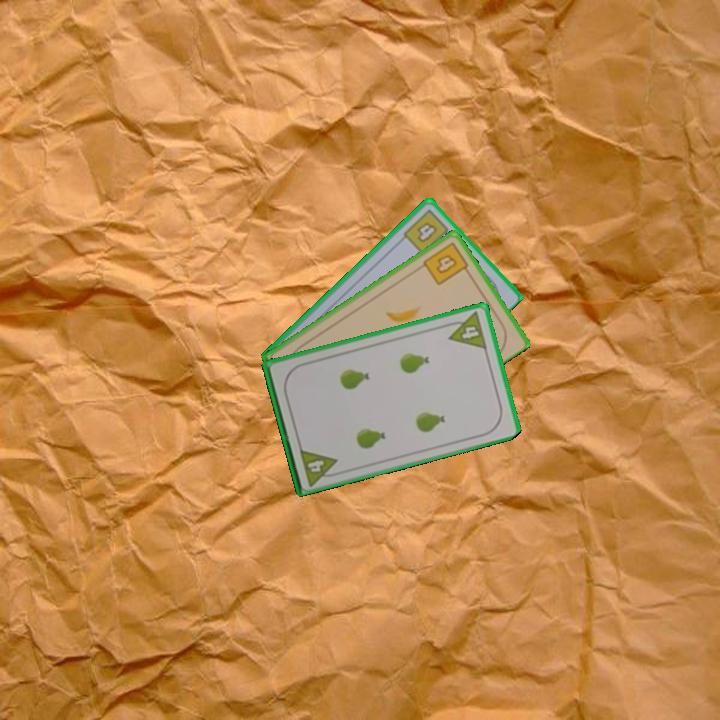4b: (399, 205, 455, 257), (419, 238, 473, 288)
4p: (442, 308, 490, 352), (296, 444, 343, 488)
